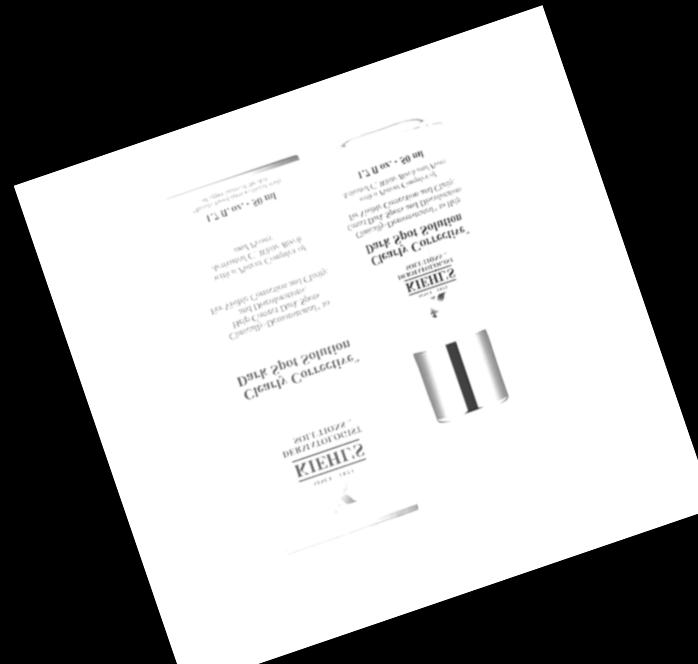cosmetic: (328, 119, 553, 492)
